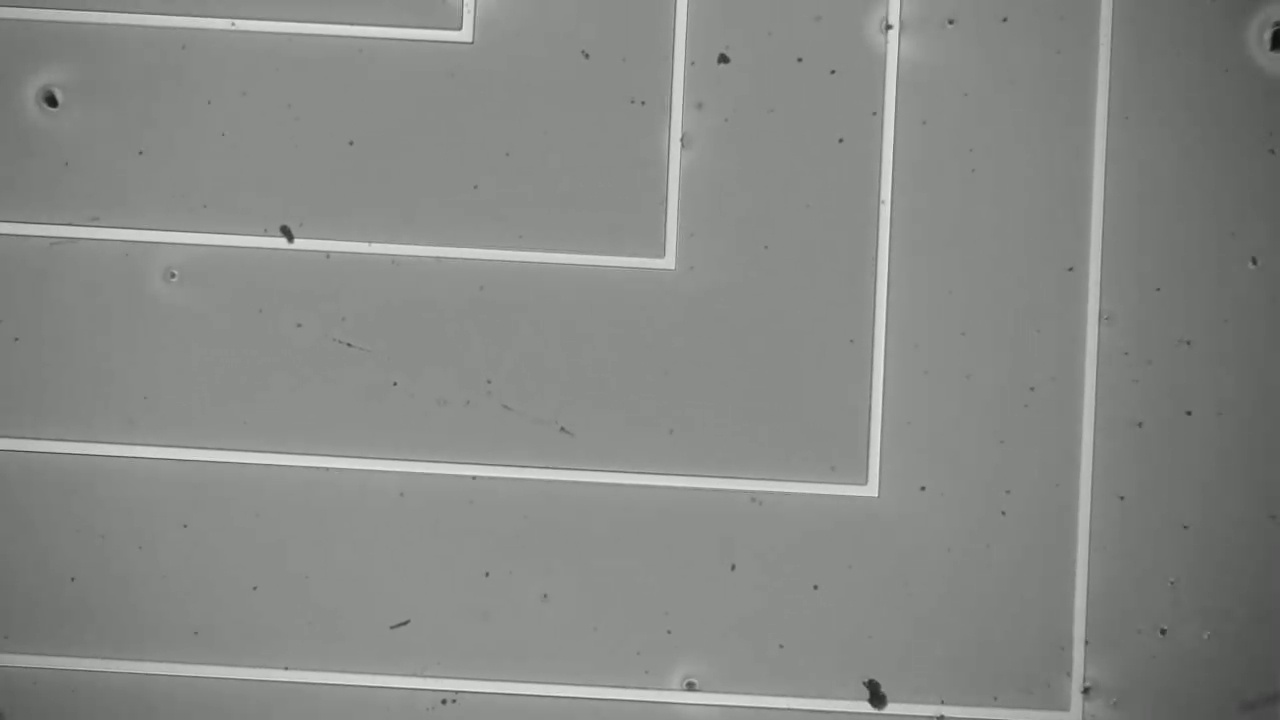stains_enbedded: (857, 677, 896, 718), (875, 8, 911, 44), (1063, 668, 1098, 702), (274, 221, 303, 256)
